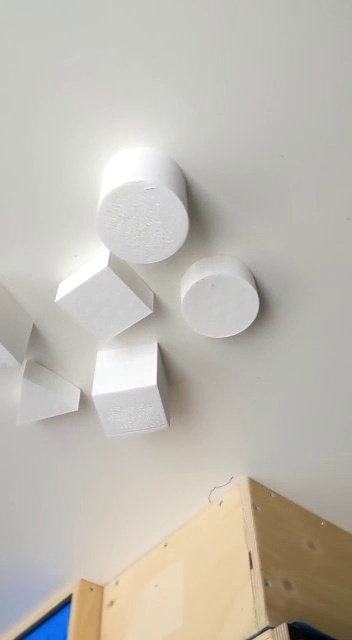Clyinder_short: (175, 251, 261, 340)
Cube: (87, 344, 175, 442)
Cube_short: (50, 247, 156, 355)
Cylinder: (91, 146, 191, 267)
Triangle: (1, 282, 41, 375)
Triangle_short: (14, 357, 87, 435)
